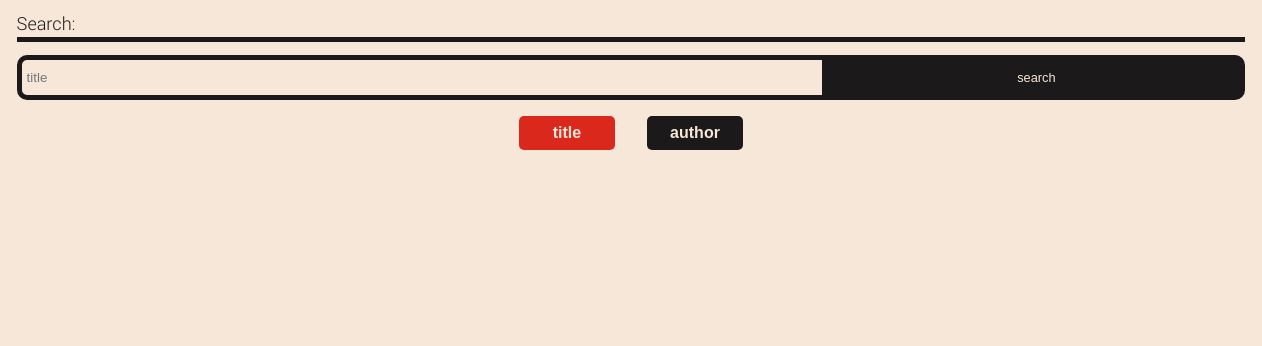
Test: BookSearch page › Should update results after successful search
Expected: the text "Death's End" is not shown
Type "Death" into the field with test id "search-input". click: (422, 77)
box: 17,55 -> 828,100
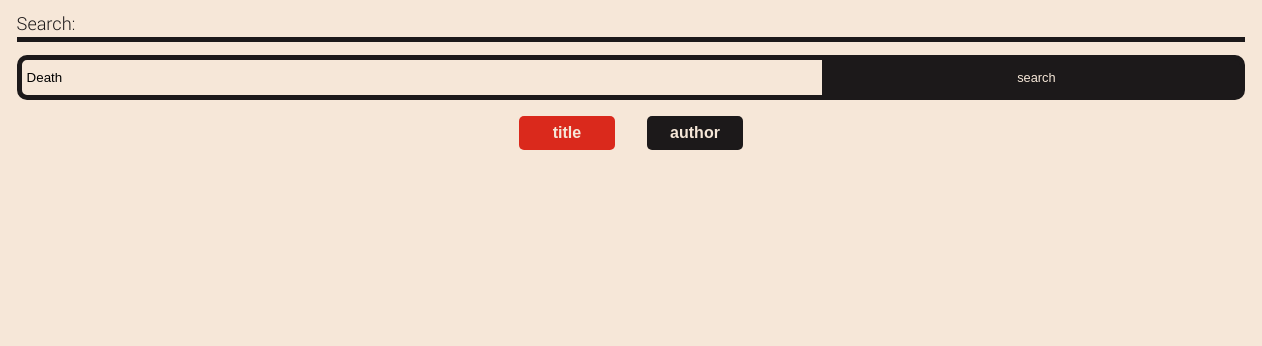
Click the button with test id "search-button". click: (1036, 77)
box: 828,55 -> 1245,100
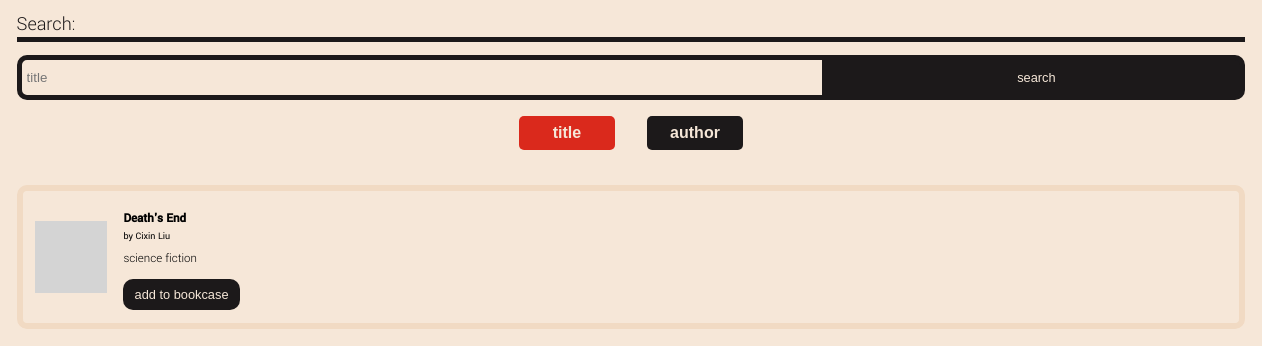
Expected: the heading "Death's End" is shown, 123,210 -> 186,227
Type "Foundation" into the field showing "Death". click: (422, 77)
box: 17,55 -> 828,100
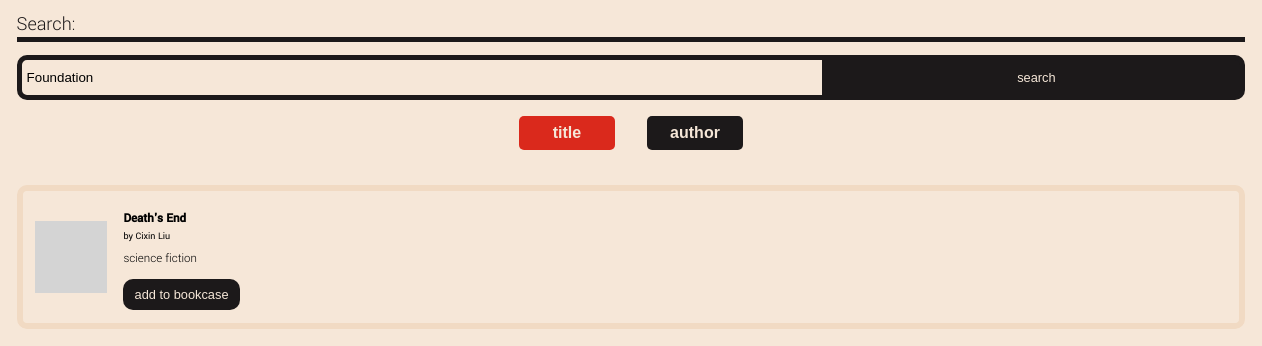
Click the button with test id "search-button". click: (1036, 77)
box: 828,55 -> 1245,100
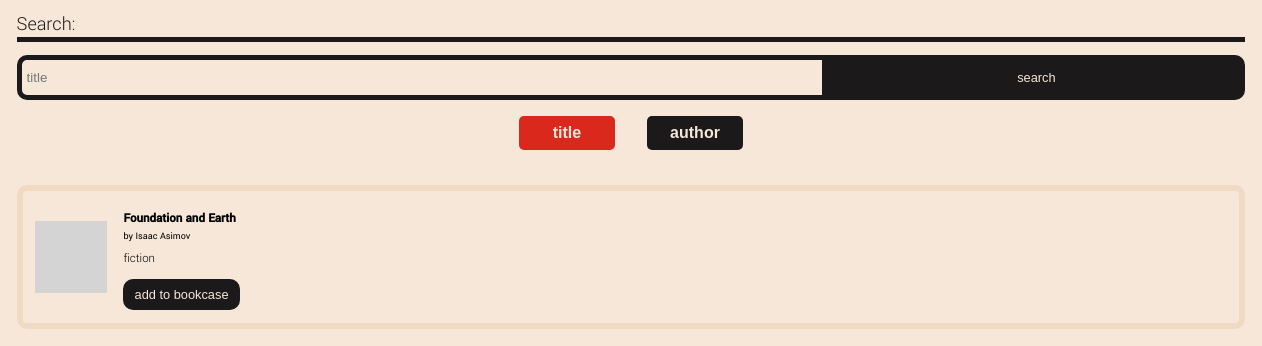
Expected: the heading "Foundation and Earth" is shown, 123,210 -> 240,227
Expected: the heading "Death's End" is gone
